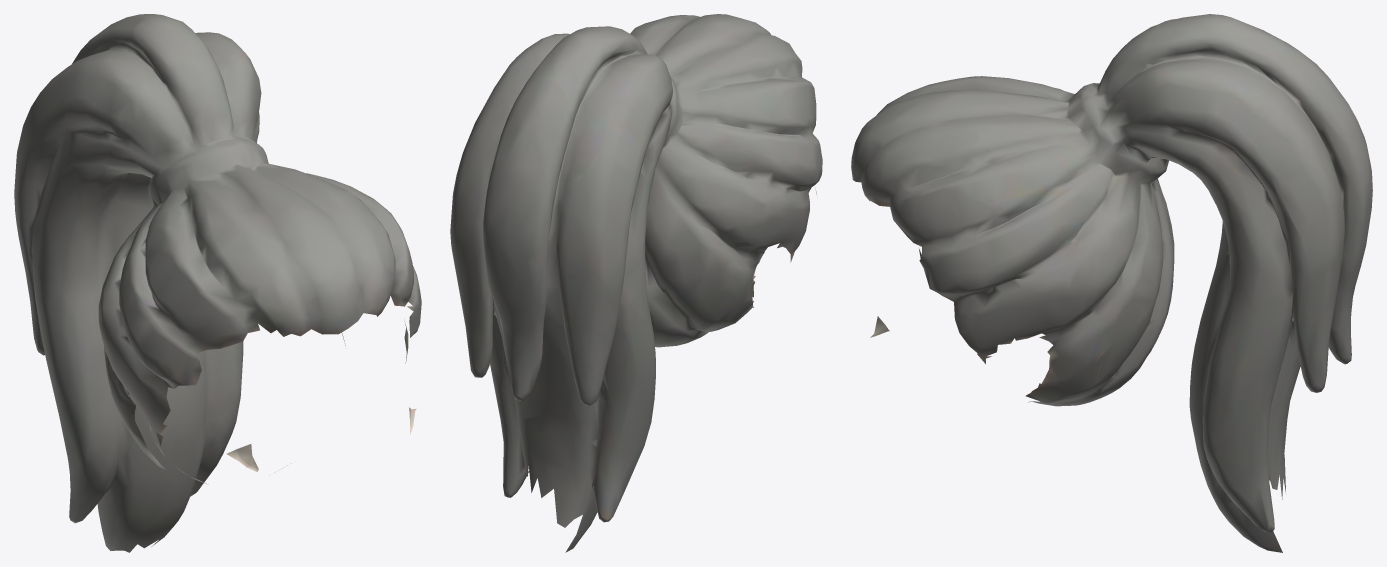
Rendered from hair-f-high-pony.glb.
3 renders of one model, left to right at view 1: azimuth 30°, elevation 25°; view 2: azimuth 150°, elevation 25°; view 3: azimuth 270°, elevation 25°, orthographic. The views are drawn at different scales.
Parts seen in each view (by area): view 1: hair-f-high-pony; view 2: hair-f-high-pony; view 3: hair-f-high-pony.
Boxes of the visible parts, box(x1,y1,x2,y2) form: hair-f-high-pony: box(14, 14, 421, 552); hair-f-high-pony: box(450, 14, 822, 552); hair-f-high-pony: box(851, 14, 1372, 552).
Size of the model in its own units: 0.8576 by 1.64 by 1.47.
1 material, 1 textured.
